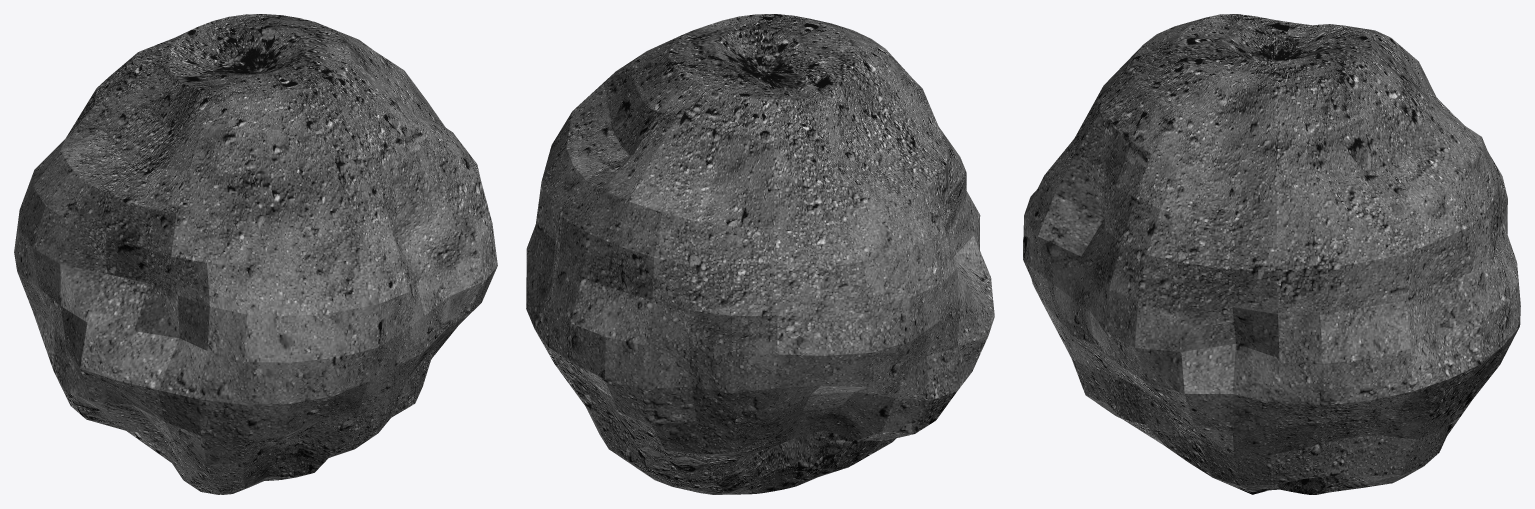
File: asteroid.glb
The picture shows the model from 3 angles, left to right: view 1: azimuth 30°, elevation 25°; view 2: azimuth 150°, elevation 25°; view 3: azimuth 270°, elevation 25°; orthographic projection. The views are drawn at different scales.
Parts seen in each view (by area): view 1: Sphere; view 2: Sphere; view 3: Sphere.
Part boxes in pixels (x1,y1,x2,y2): Sphere: [14, 14, 497, 494]; Sphere: [526, 14, 994, 494]; Sphere: [1023, 14, 1520, 494].
Size of the model in its own units: 1.89 by 1.92 by 1.93.
Materials: 1 (1 with a texture image).
